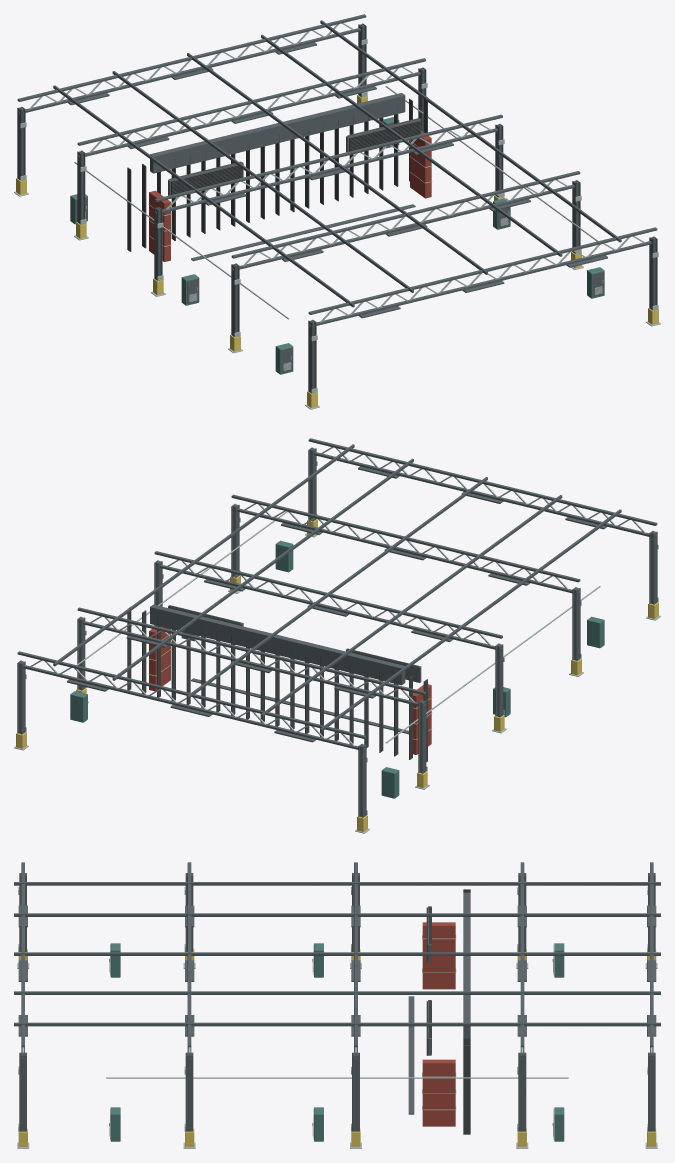
The model's file is range-kit.glb.
The picture shows the model from 3 angles, top to bottom: view 1: azimuth 30°, elevation 25°; view 2: azimuth 150°, elevation 25°; view 3: azimuth 270°, elevation 25°; orthographic projection. The views are drawn at different scales.
Parts seen in each view (by area): view 1: Acoustic back wall fin; view 2: Acoustic back wall fin; view 3: Acoustic back wall fin.
Part boxes in pixels (<box>): Acoustic back wall fin: <box>14,14,660,409</box>; Acoustic back wall fin: <box>14,438,660,833</box>; Acoustic back wall fin: <box>14,862,660,1148</box>.
Bounding box in the file's own units: 23.65 × 6.18 × 35.
2 materials, 2 textured.
